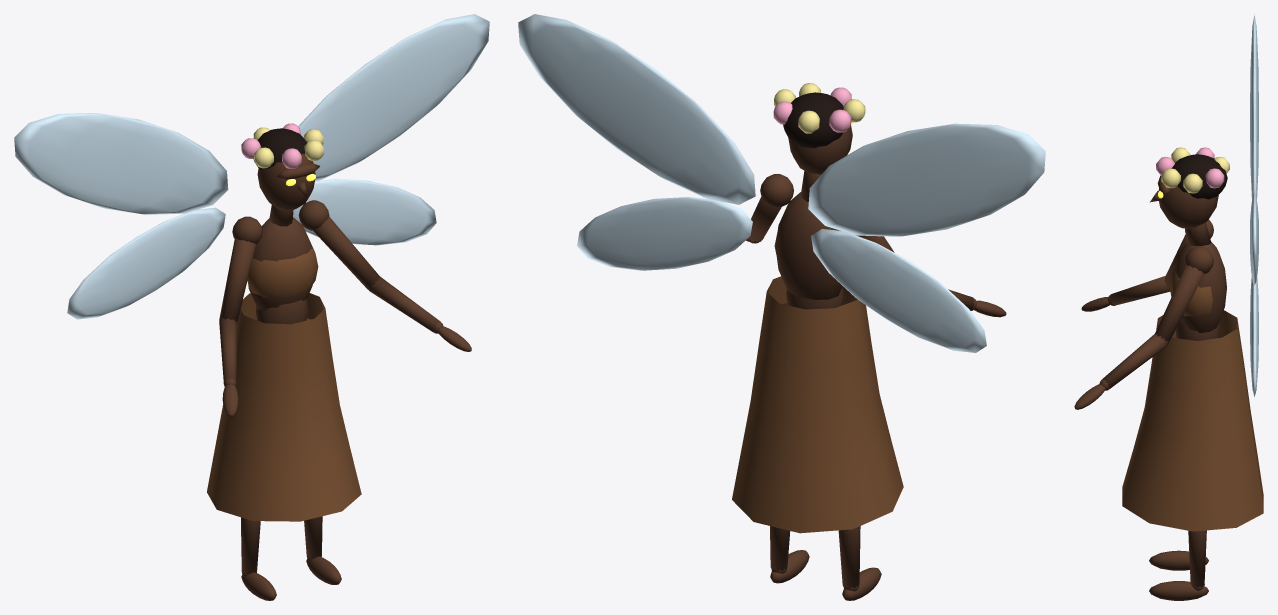
The model's file is aziza.glb.
The picture shows the model from 3 angles, left to right: view 1: azimuth 30°, elevation 25°; view 2: azimuth 150°, elevation 25°; view 3: azimuth 270°, elevation 25°; orthographic projection. The views are drawn at different scales.
Parts seen in each view (by area): view 1: pelvis, wing_R, wing_L, torso, head, upperarm_R, upperarm_L, forearm_L, forearm_R, shin_R, shin_L, foot_R (+1 smaller); view 2: pelvis, wing_L, wing_R, head, torso, upperarm_L, shin_R, shin_L; view 3: pelvis, head, torso, upperarm_L, wing_L, wing_R, forearm_L, shin_L, forearm_R, foot_L, foot_R, hand_L (+2 smaller).
Part boxes in pixels (x1,y1,x2,y2): pelvis: (207,293,361,521); wing_R: (14,113,228,319); wing_L: (293,14,489,245); torso: (247,204,318,324); head: (241,123,323,210); upperarm_R: (219,216,262,323); upperarm_L: (298,200,380,289); forearm_L: (368,276,443,333); forearm_R: (219,318,236,386); shin_R: (241,517,260,576); shin_L: (304,516,322,560); foot_R: (241,572,276,600); pelvis: (732,276,903,533); wing_L: (518,14,755,270); wing_R: (808,123,1045,352); head: (773,83,865,174); torso: (774,171,843,309); upperarm_L: (748,174,793,242); shin_R: (838,526,860,591); shin_L: (770,526,790,573); pelvis: (1122,310,1263,531); head: (1150,147,1229,228); torso: (1169,222,1226,340); upperarm_L: (1154,246,1213,345); wing_L: (1250,193,1258,397); wing_R: (1250,14,1258,223); forearm_L: (1099,334,1168,390); shin_L: (1188,530,1206,590); forearm_R: (1107,276,1170,305); foot_L: (1149,581,1208,600); foot_R: (1149,550,1208,570); hand_L: (1074,384,1105,409).
Bounding box in the file's own units: 1.13 × 1.11 × 0.4071.
